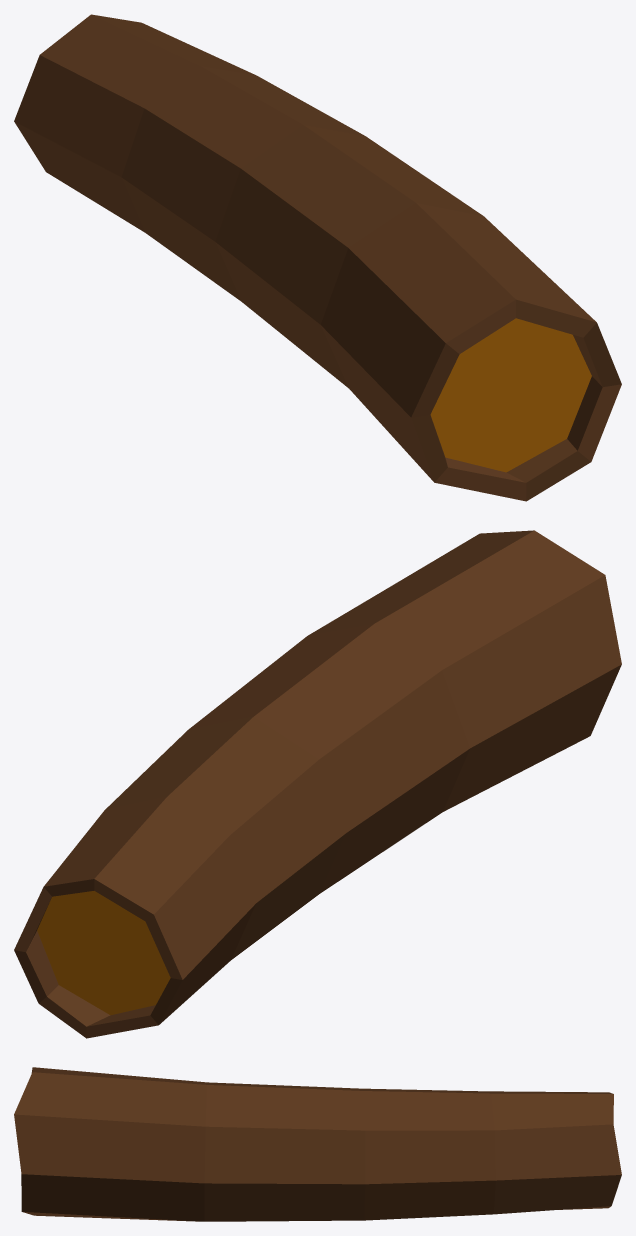
Rendered from log_2.glb.
The picture shows the model from 3 angles, top to bottom: view 1: azimuth 30°, elevation 25°; view 2: azimuth 150°, elevation 25°; view 3: azimuth 270°, elevation 25°; orthographic projection. The views are drawn at different scales.
Visible parts, largest first — view 1: log_2; view 2: log_2; view 3: log_2.
Part boxes in pixels (x1,y1,x2,y2): log_2: (14, 14, 621, 501); log_2: (14, 530, 621, 1038); log_2: (14, 1067, 621, 1221).
Bounding box in the file's own units: 0.6746 × 0.6062 × 2.39.
